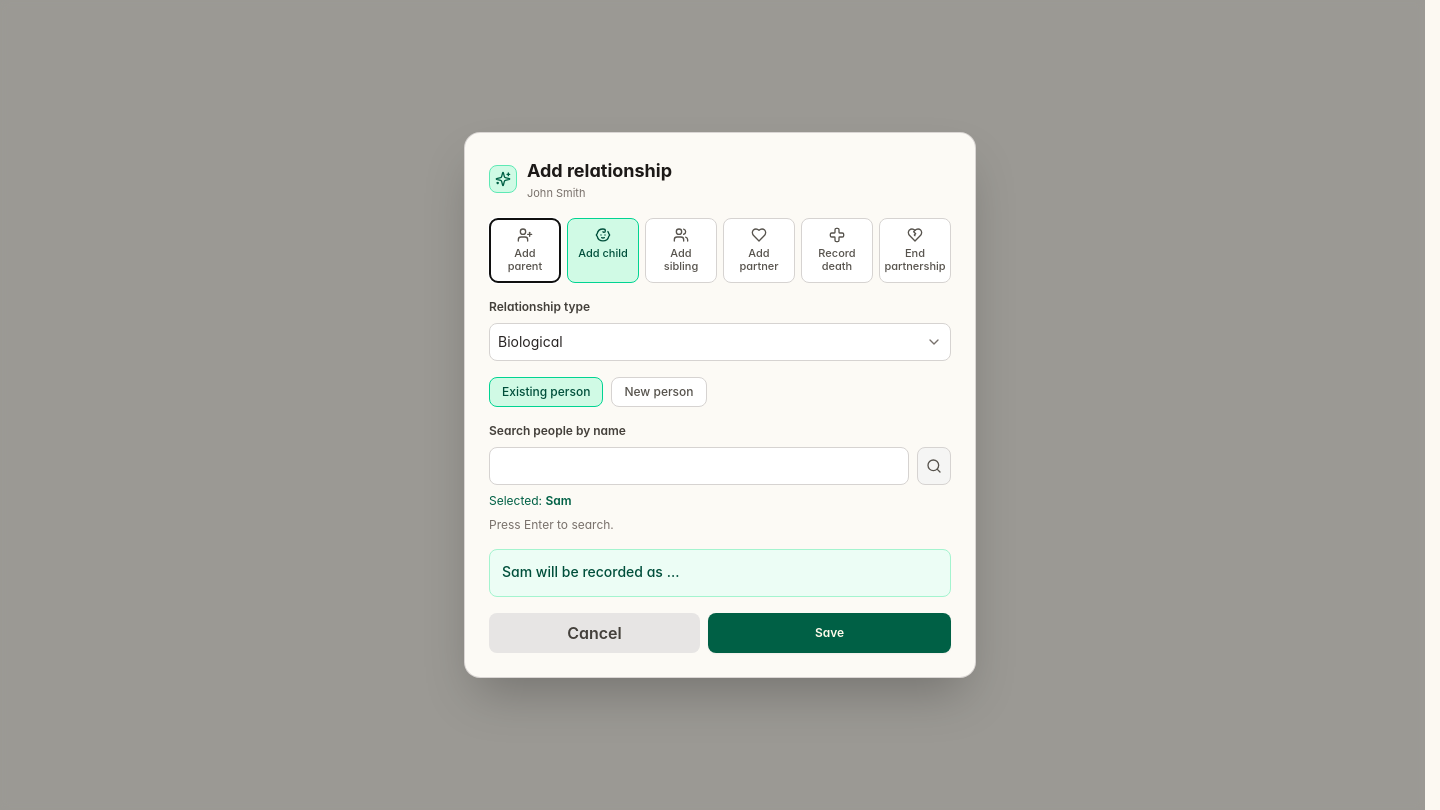
Test: RelationshipModal surname suggestion › offers the anchor’s surname for a new child without filling it in, and hides once used
Click the button "New person" at x=659, y=392, box [611,377,706,407]
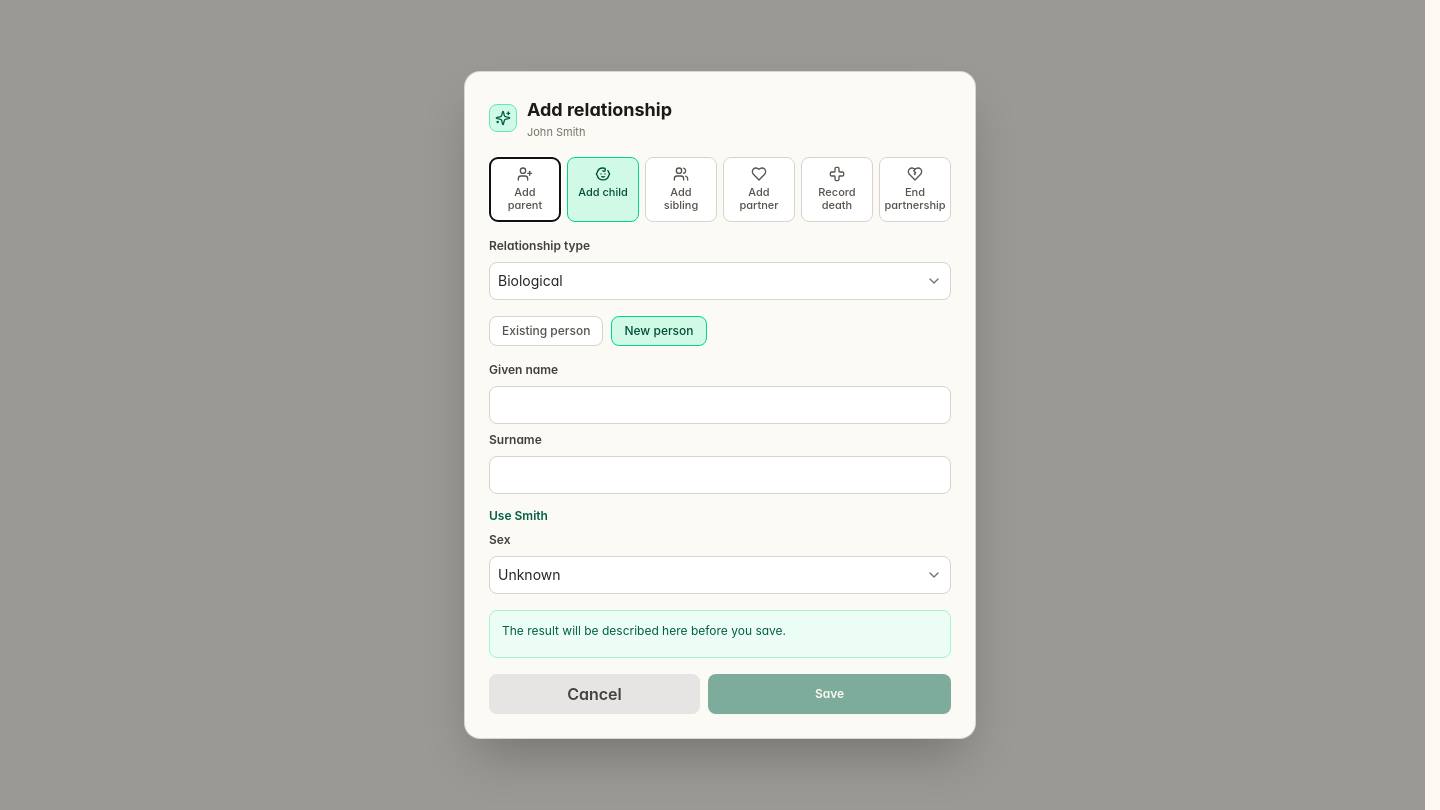
expect the field with id "new-surname" is empty: met, box [489,456,951,494]
expect the button with test id "suggest-surname" reads "Use Smith": met
Click the button with test id "suggest-surname" at x=518, y=516, box [489,508,548,524]
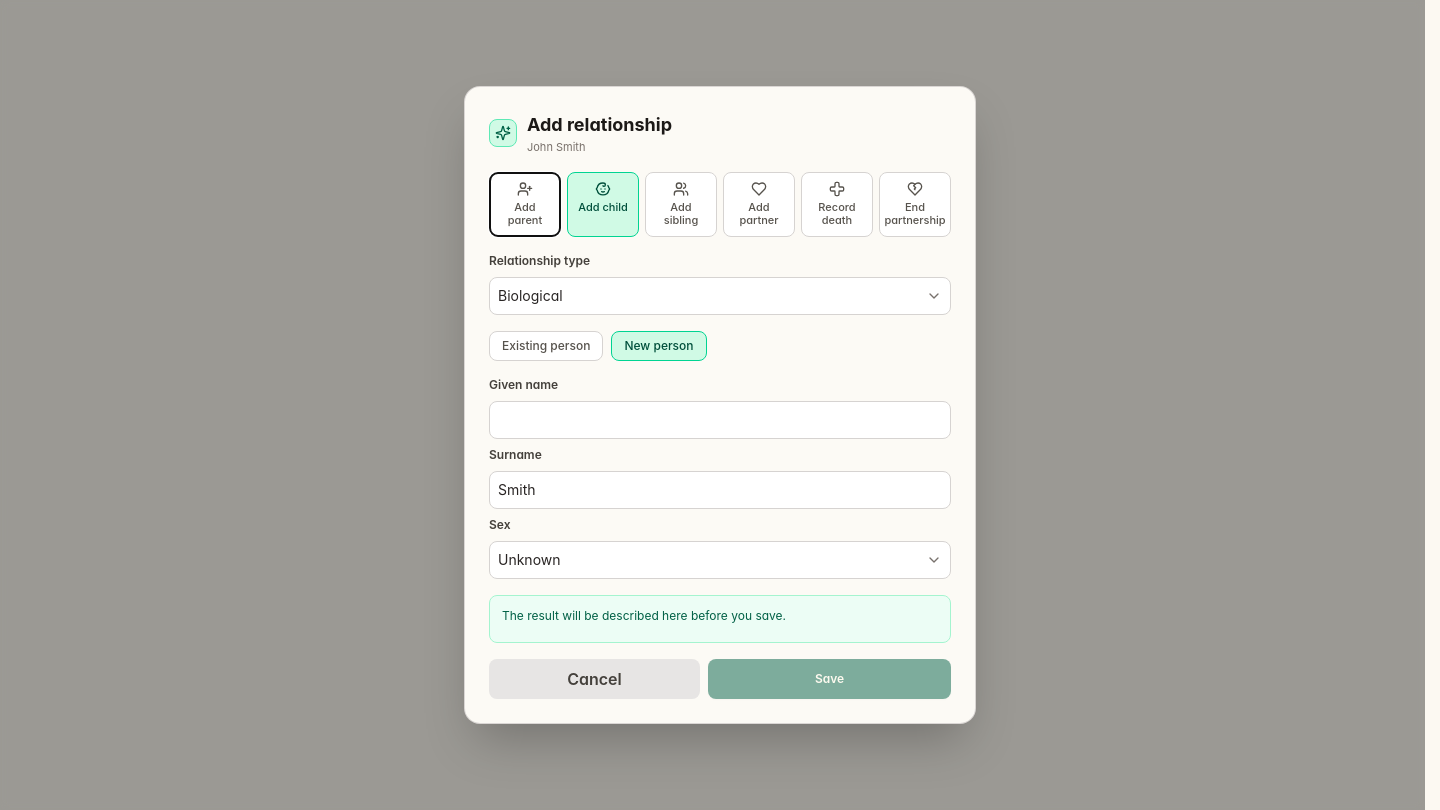
expect the field with id "new-surname" holds "Smith": met, box [489,471,951,509]
expect the button with test id "suggest-surname" is gone: met
